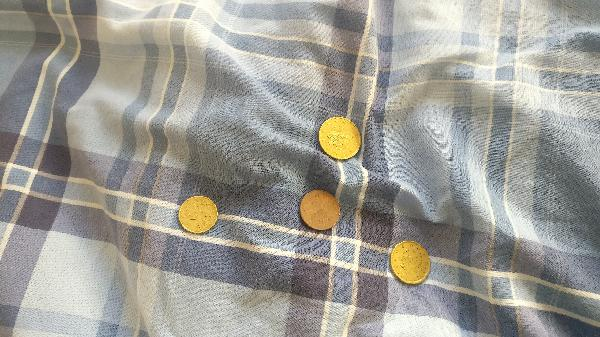Fifty Cent: (315, 112, 363, 163)
Five Cent: (298, 188, 341, 231)
Ten Cent: (175, 194, 220, 235)
Twenty Cent: (390, 239, 436, 286)
